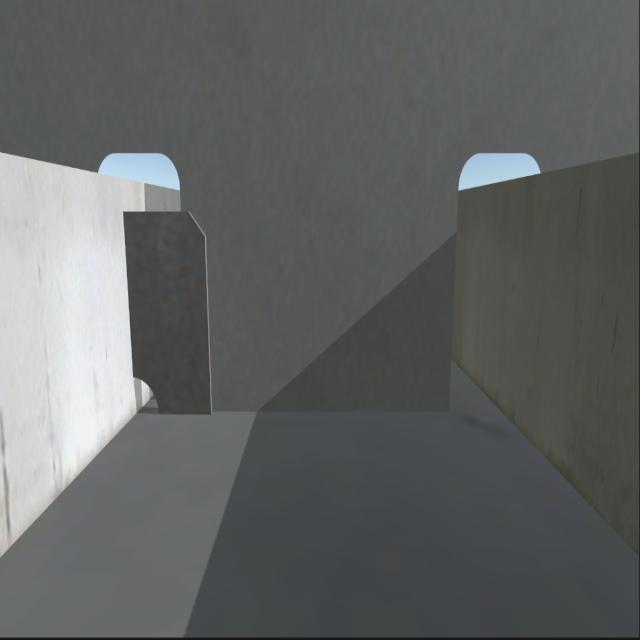fillet_hole: (132, 374, 166, 412)
fillet_yong_jeop_jang: (160, 398, 456, 418)
longi_yong_jeop_jang: (120, 208, 134, 376)
plate_CP03: (131, 206, 213, 412)
